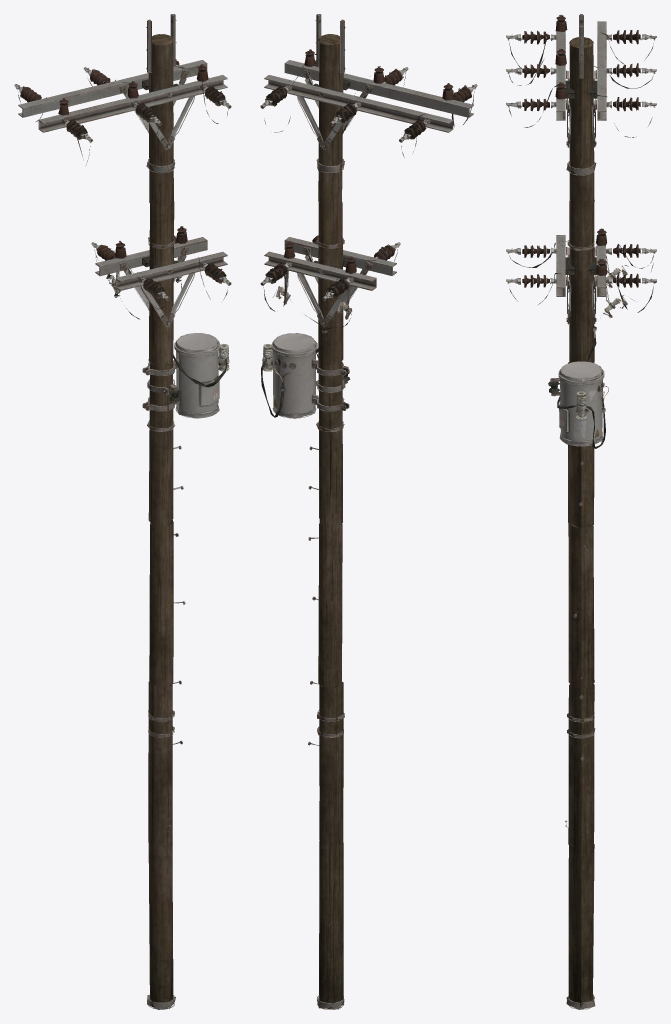
Rendered from power_pole_b.glb.
3 views of the same model, side by side, from view 1: azimuth 30°, elevation 25°; view 2: azimuth 150°, elevation 25°; view 3: azimuth 270°, elevation 25° (orthographic).
Visible parts, largest first — view 1: power_pole_b; view 2: power_pole_b; view 3: power_pole_b.
Boxes of the visible parts, x1,y1,x2,y2 form: power_pole_b: [14, 14, 231, 1009]; power_pole_b: [260, 14, 477, 1009]; power_pole_b: [506, 14, 656, 1009].
Size of the model in its own units: 1.29 by 6.13 by 0.8522.
2 materials, 2 textured.
